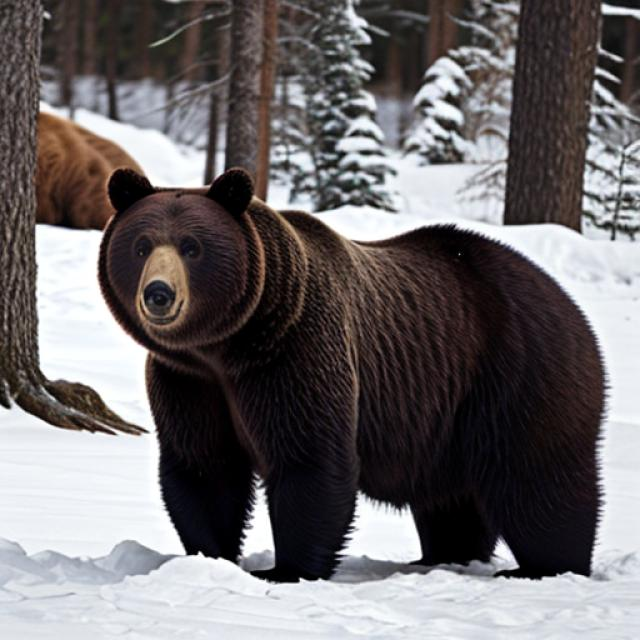bear: (90, 161, 612, 574)
